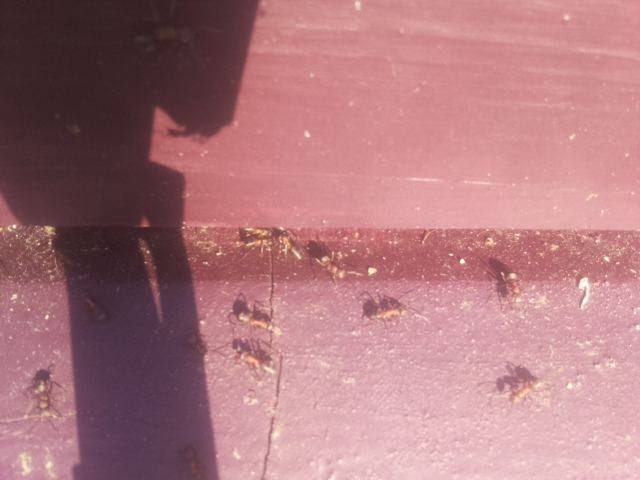ant: (126, 16, 196, 55), (227, 295, 285, 341), (25, 363, 59, 422), (76, 281, 114, 329), (307, 247, 351, 283), (496, 261, 527, 310), (568, 270, 602, 312), (506, 372, 546, 405), (234, 349, 282, 374), (177, 443, 209, 480), (365, 301, 413, 321), (278, 227, 305, 261)
